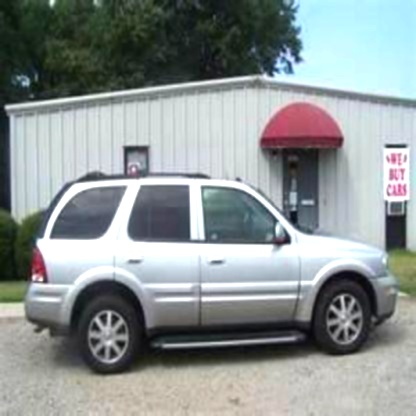Vehicle: (25, 176, 402, 379)
